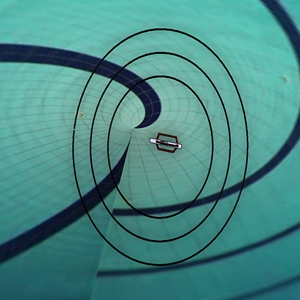circle: (55, 12, 257, 272)
submarine: (141, 122, 195, 170)
